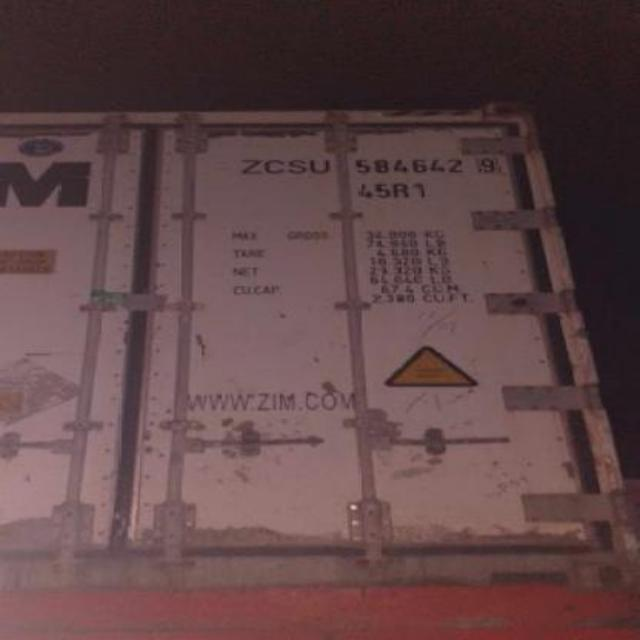2: (446, 150, 472, 180)
4: (392, 150, 412, 180), (430, 150, 448, 180)
5: (350, 150, 370, 180)
6: (410, 151, 428, 177)
8: (371, 152, 392, 178)
9: (472, 152, 502, 175)
C: (262, 153, 288, 180)
S: (289, 152, 305, 184)
U: (306, 148, 334, 184)
Z: (229, 148, 265, 180)
